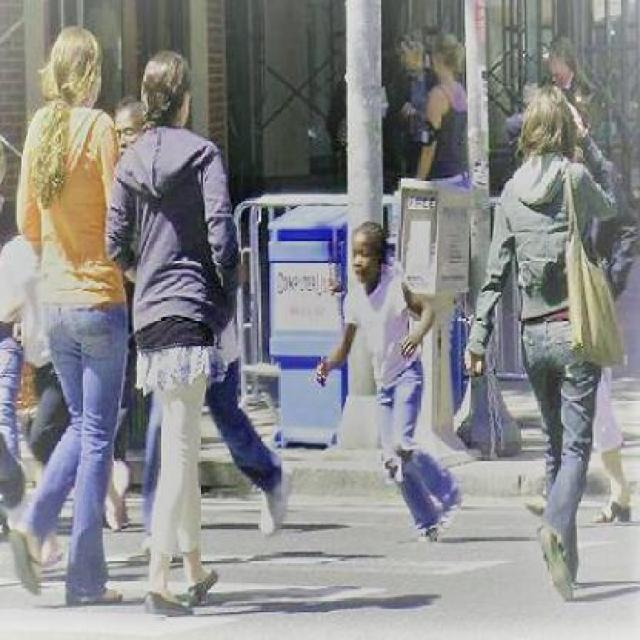Person: (463, 89, 622, 603), (7, 22, 133, 609), (112, 42, 239, 616), (313, 221, 470, 542)
